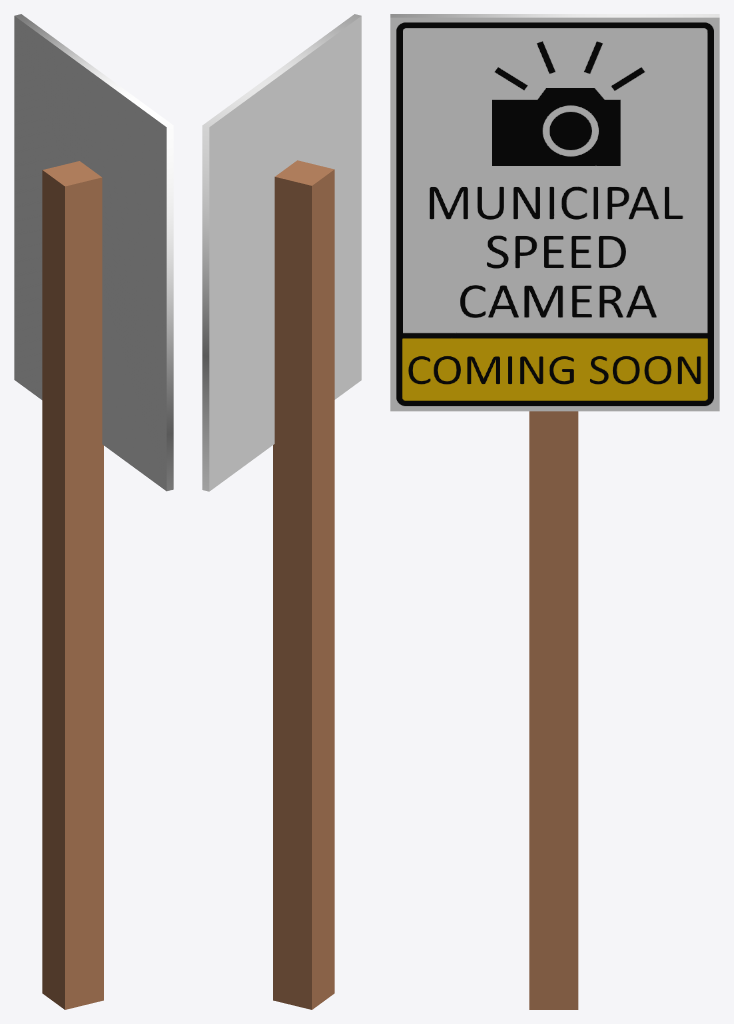
The model's file is sign17.fbx.
3 renders of one model, left to right at view 1: azimuth 30°, elevation 25°; view 2: azimuth 150°, elevation 25°; view 3: azimuth 270°, elevation 25°, orthographic. The views are drawn at different scales.
Visible parts, largest first — view 1: Cylinder.005_Cylinder.000; view 2: Cylinder.005_Cylinder.000; view 3: Cylinder.005_Cylinder.000.
Boxes of the visible parts, x1,y1,x2,y2 form: Cylinder.005_Cylinder.000: (14,14,173,1009); Cylinder.005_Cylinder.000: (202,14,361,1009); Cylinder.005_Cylinder.000: (390,14,719,1009).
Bounding box in the file's own units: 17.7 × 351 × 105.
